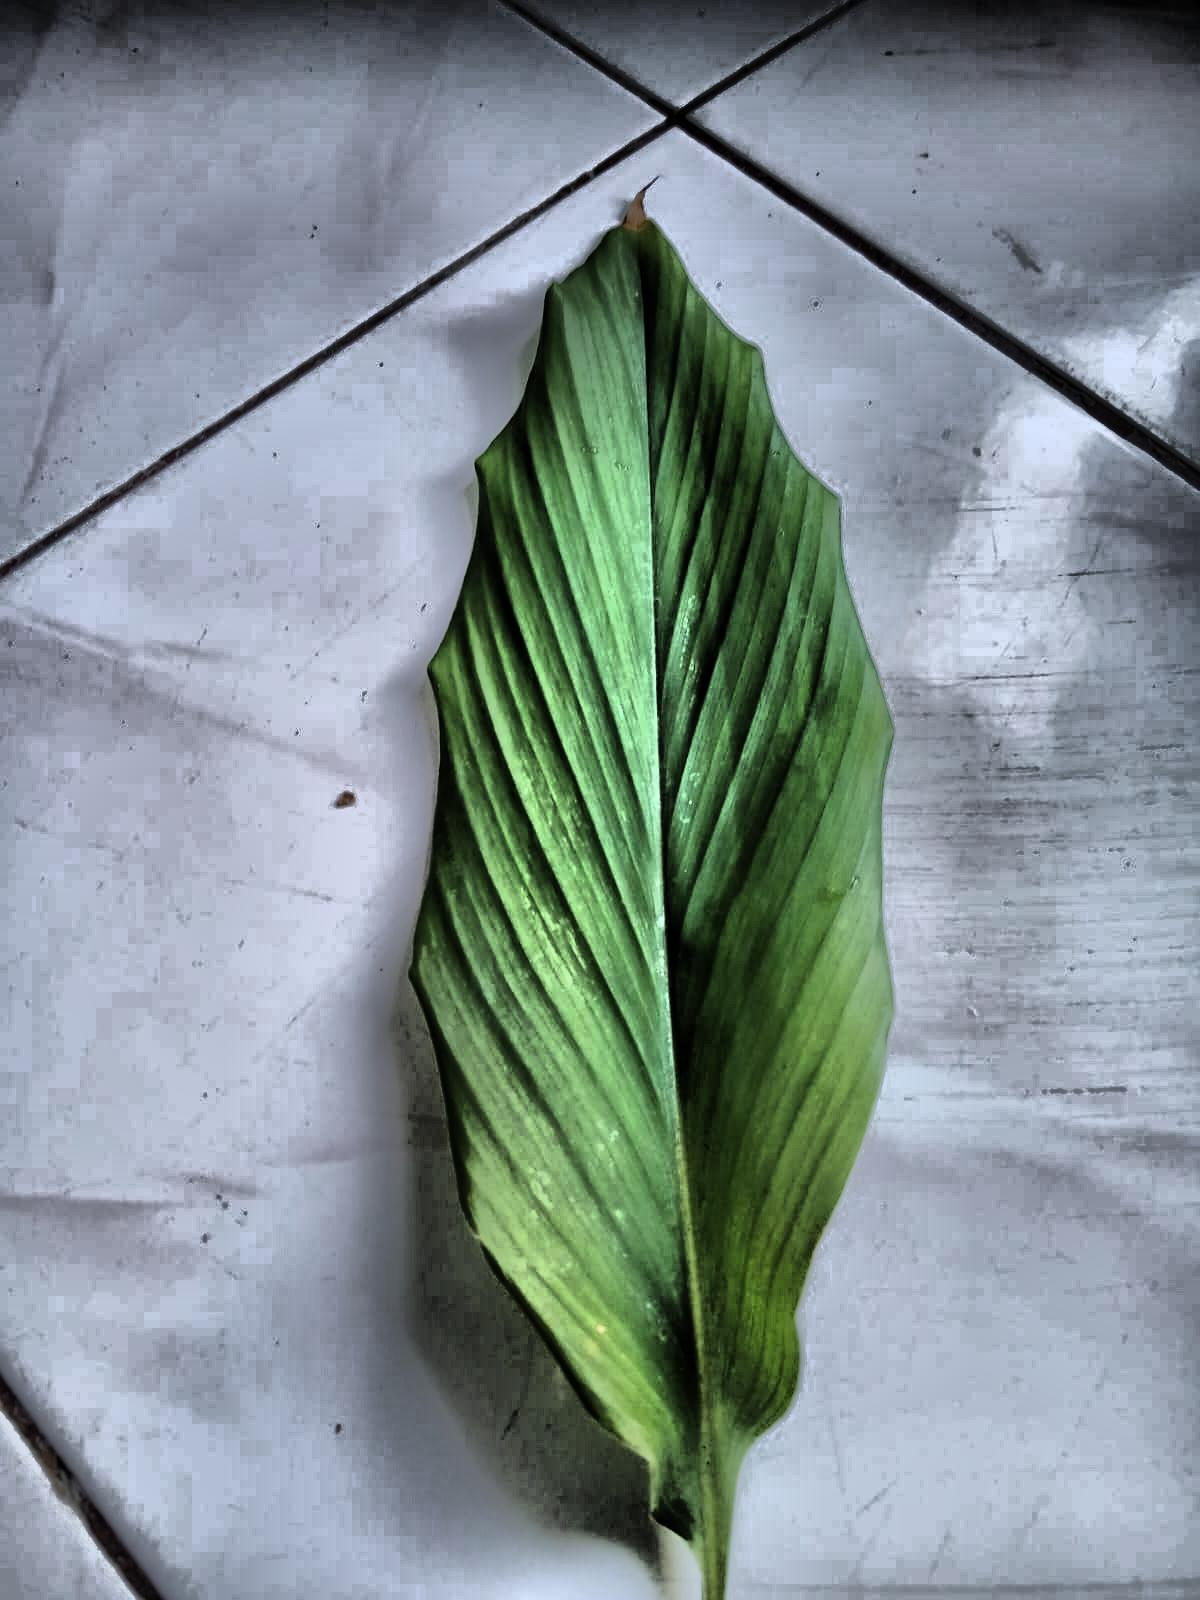daun kunyit: (412, 210, 892, 1599)
